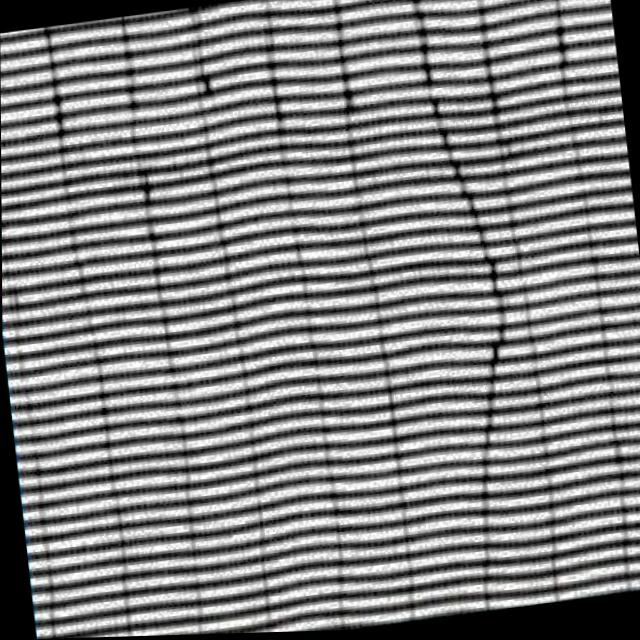Stitch: (386, 81, 575, 511)
